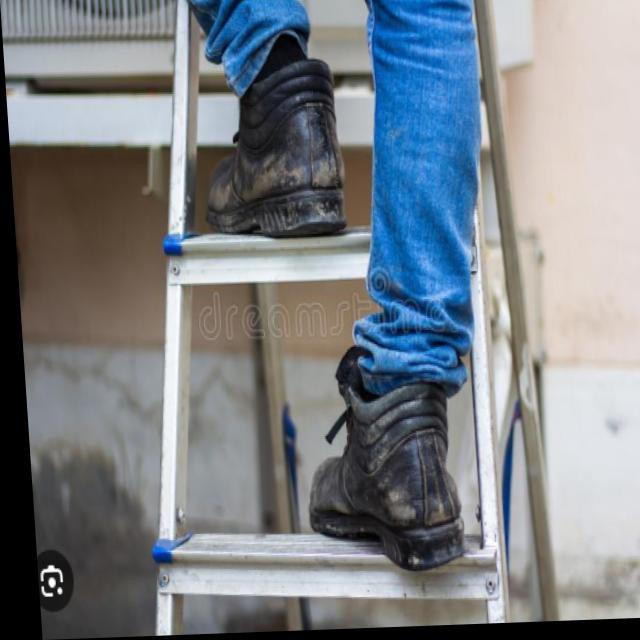boots: (184, 13, 479, 580)
